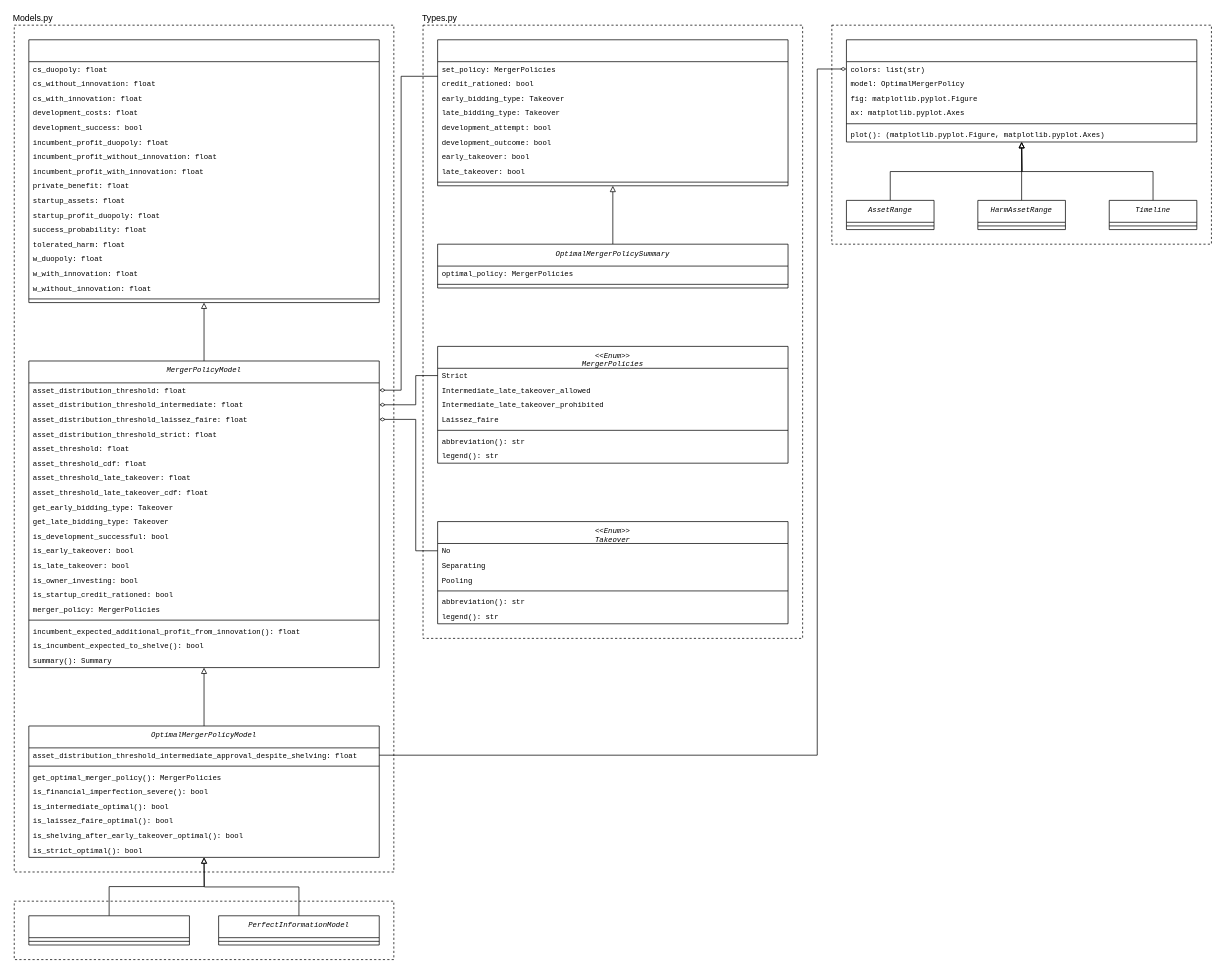
This 1224x972 diagram has some shape labels left out. The box of each missing label's shape, as (x1, y1, x2, y2) in pixels:
AdditionalModels.py: (14, 900, 394, 960)
BaseModel: (28, 39, 379, 303)
IVisualize: (846, 39, 1197, 142)
MicroFoundationModel: (28, 915, 189, 945)
Summary: (437, 39, 788, 186)
Visualize.py: (831, 24, 1211, 244)
